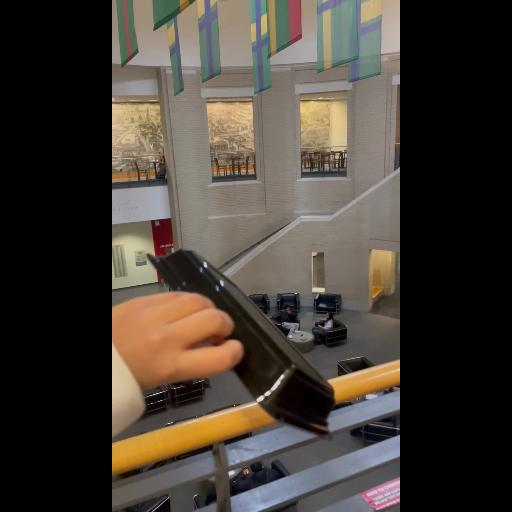rigid_plastic_container: (148, 254, 330, 436)
